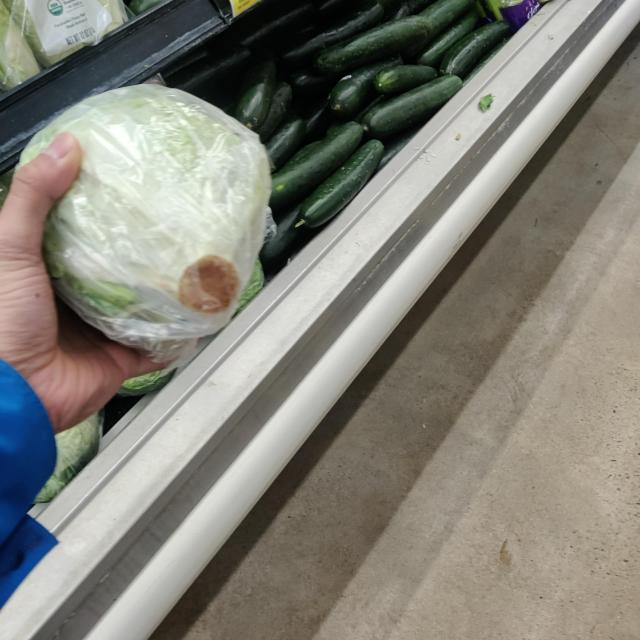Cucumber: (299, 139, 383, 230), (310, 14, 433, 74), (362, 74, 466, 136), (441, 20, 514, 80), (372, 64, 440, 92)
Lettuce: (36, 86, 284, 342)
